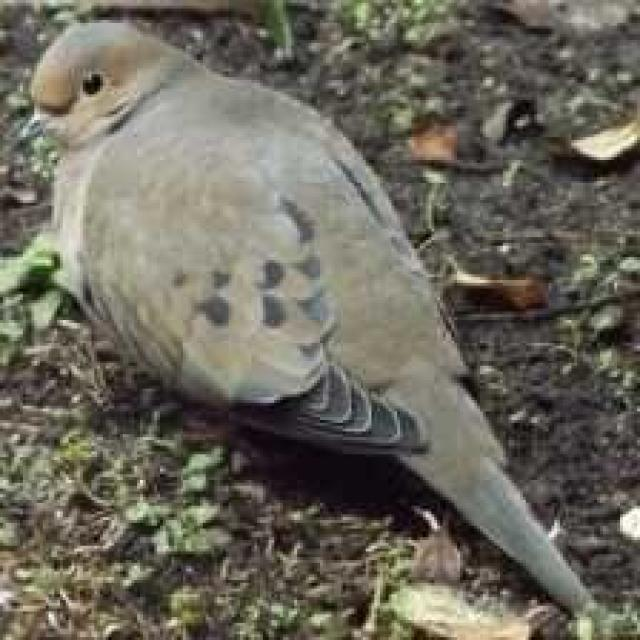bird: (15, 11, 606, 628)
